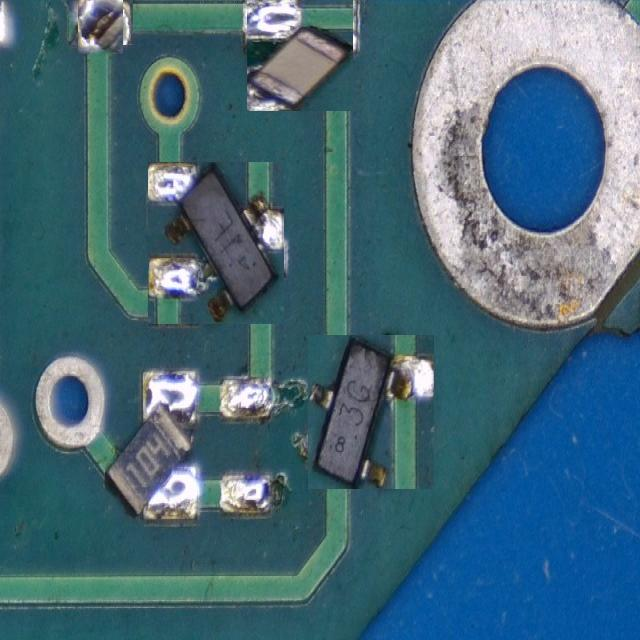Incorrect_installation: (149, 162, 283, 324), (307, 334, 434, 489), (105, 371, 198, 522), (248, 0, 352, 111), (78, 0, 122, 54)
